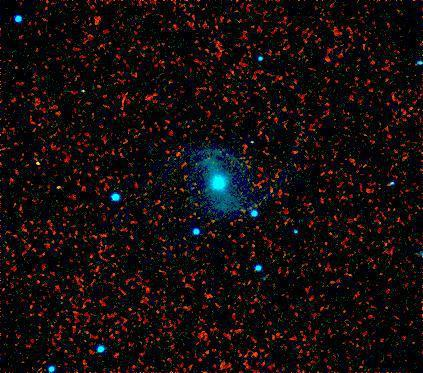star: (28, 152, 58, 182)
